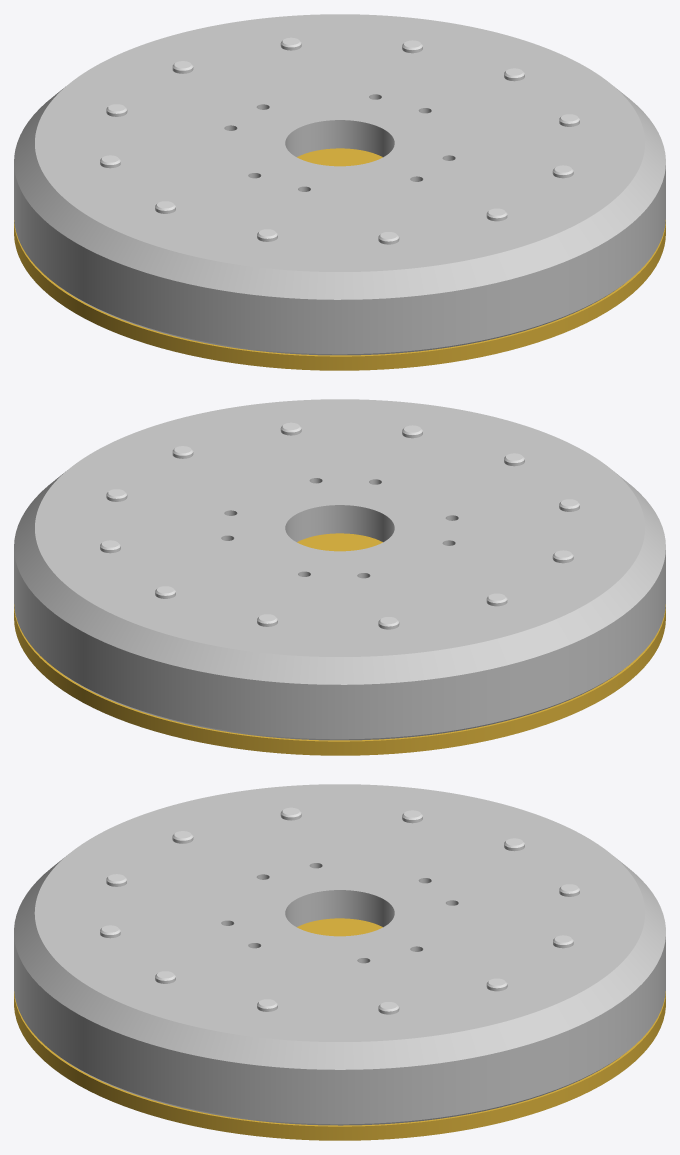
Rendered from coro_7_link7.dae.
3 views of the same model, one above another, from view 1: azimuth 30°, elevation 25°; view 2: azimuth 150°, elevation 25°; view 3: azimuth 270°, elevation 25° (orthographic).
Parts seen in each view (by area): view 1: _; view 2: _; view 3: _.
Boxes of the visible parts, x1,y1,x2,y2 form: _: (14, 14, 665, 370); _: (14, 399, 665, 755); _: (14, 784, 665, 1140).
Bounding box in the file's own units: 0.125 × 0.125 × 0.023.
